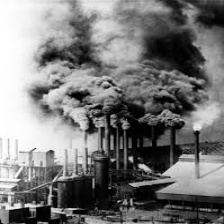smoke: (29, 7, 199, 128)
